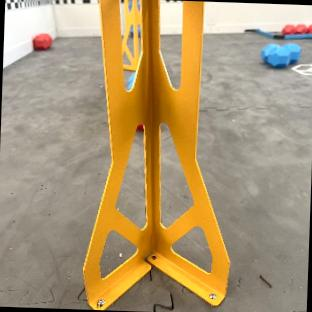V5_BLUE: (261, 43, 300, 66)
V5_RED: (34, 33, 52, 49), (293, 24, 308, 33), (282, 24, 295, 34), (137, 124, 143, 130), (308, 24, 312, 32)
